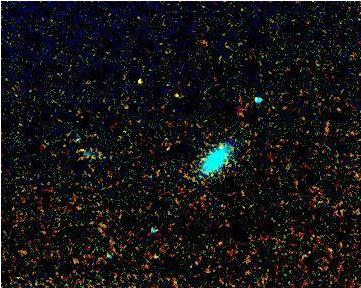star: (123, 66, 153, 96)
